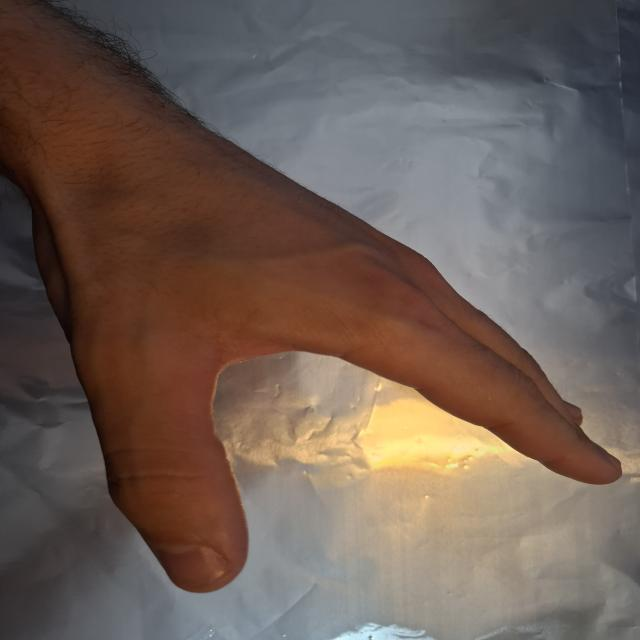glove_off: (18, 105, 626, 595)
